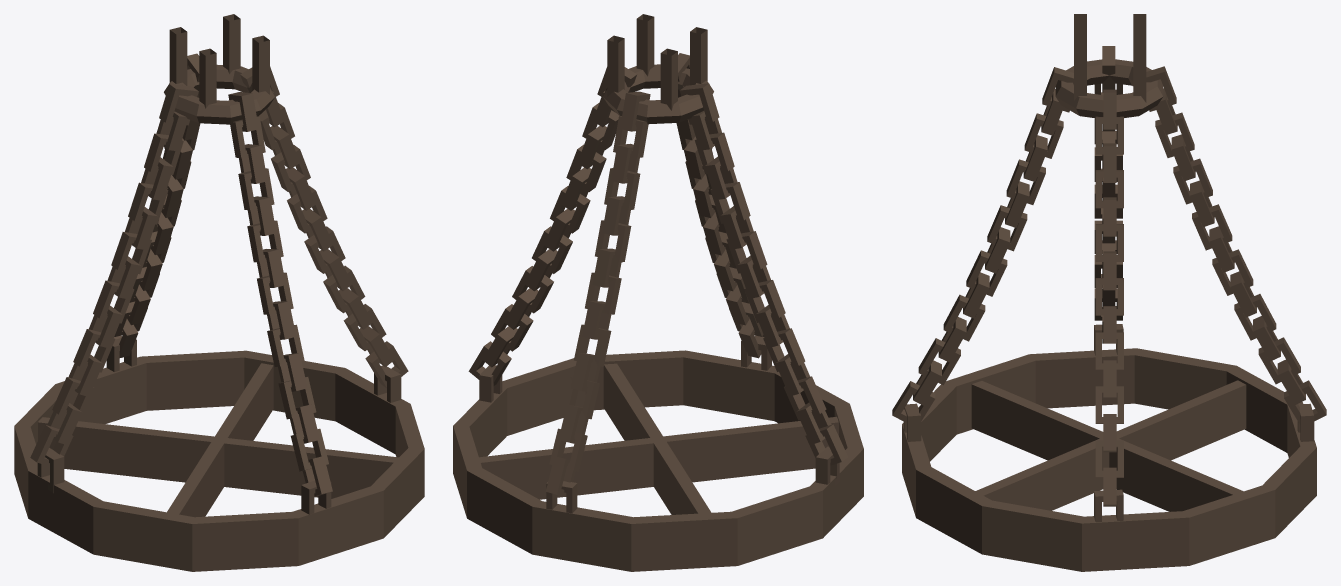
File: channnderyyylin.fbx
3 views of the same model, side by side, from view 1: azimuth 30°, elevation 25°; view 2: azimuth 150°, elevation 25°; view 3: azimuth 270°, elevation 25° (orthographic).
Parts seen in each view (by area): view 1: Chandelier; view 2: Chandelier; view 3: Chandelier.
Part boxes in pixels (left/top/right/bottom): Chandelier: left=14, top=14, right=424, bottom=571; Chandelier: left=453, top=14, right=863, bottom=571; Chandelier: left=892, top=14, right=1326, bottom=571.
Bounding box in the file's own units: 132 × 153 × 132.
